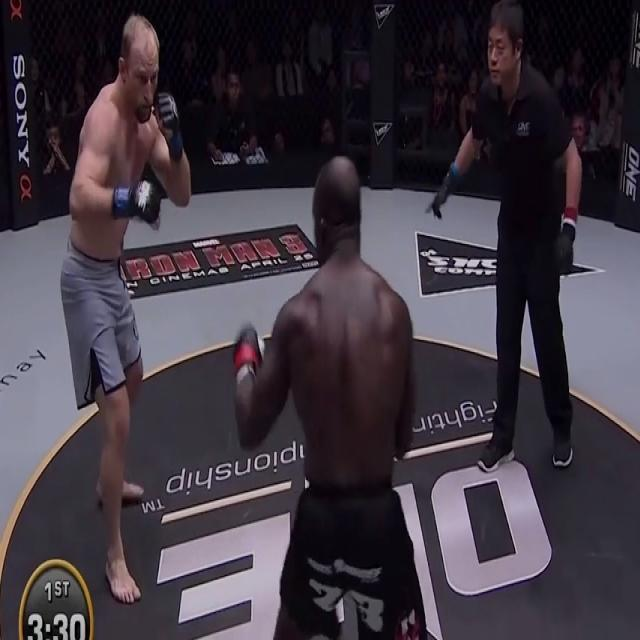fight: (58, 10, 430, 637)
non-fight: (426, 0, 588, 477)
